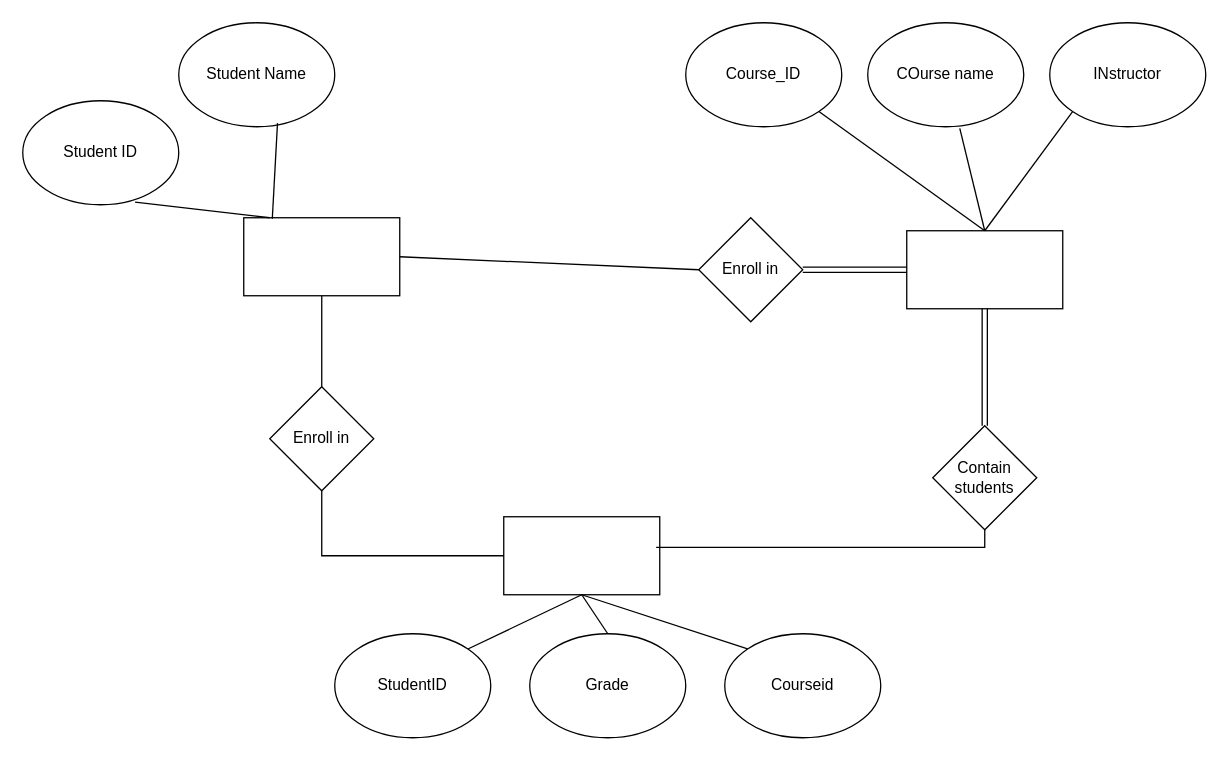
The diagram is 1229 pixels wide and 761 high, and some of its shapes have lost their labels. Each missing label, with the centre of its shape:
"course" goes at [984,269].
"Enrollment" goes at [581,555].
"Student" goes at [321,256].
